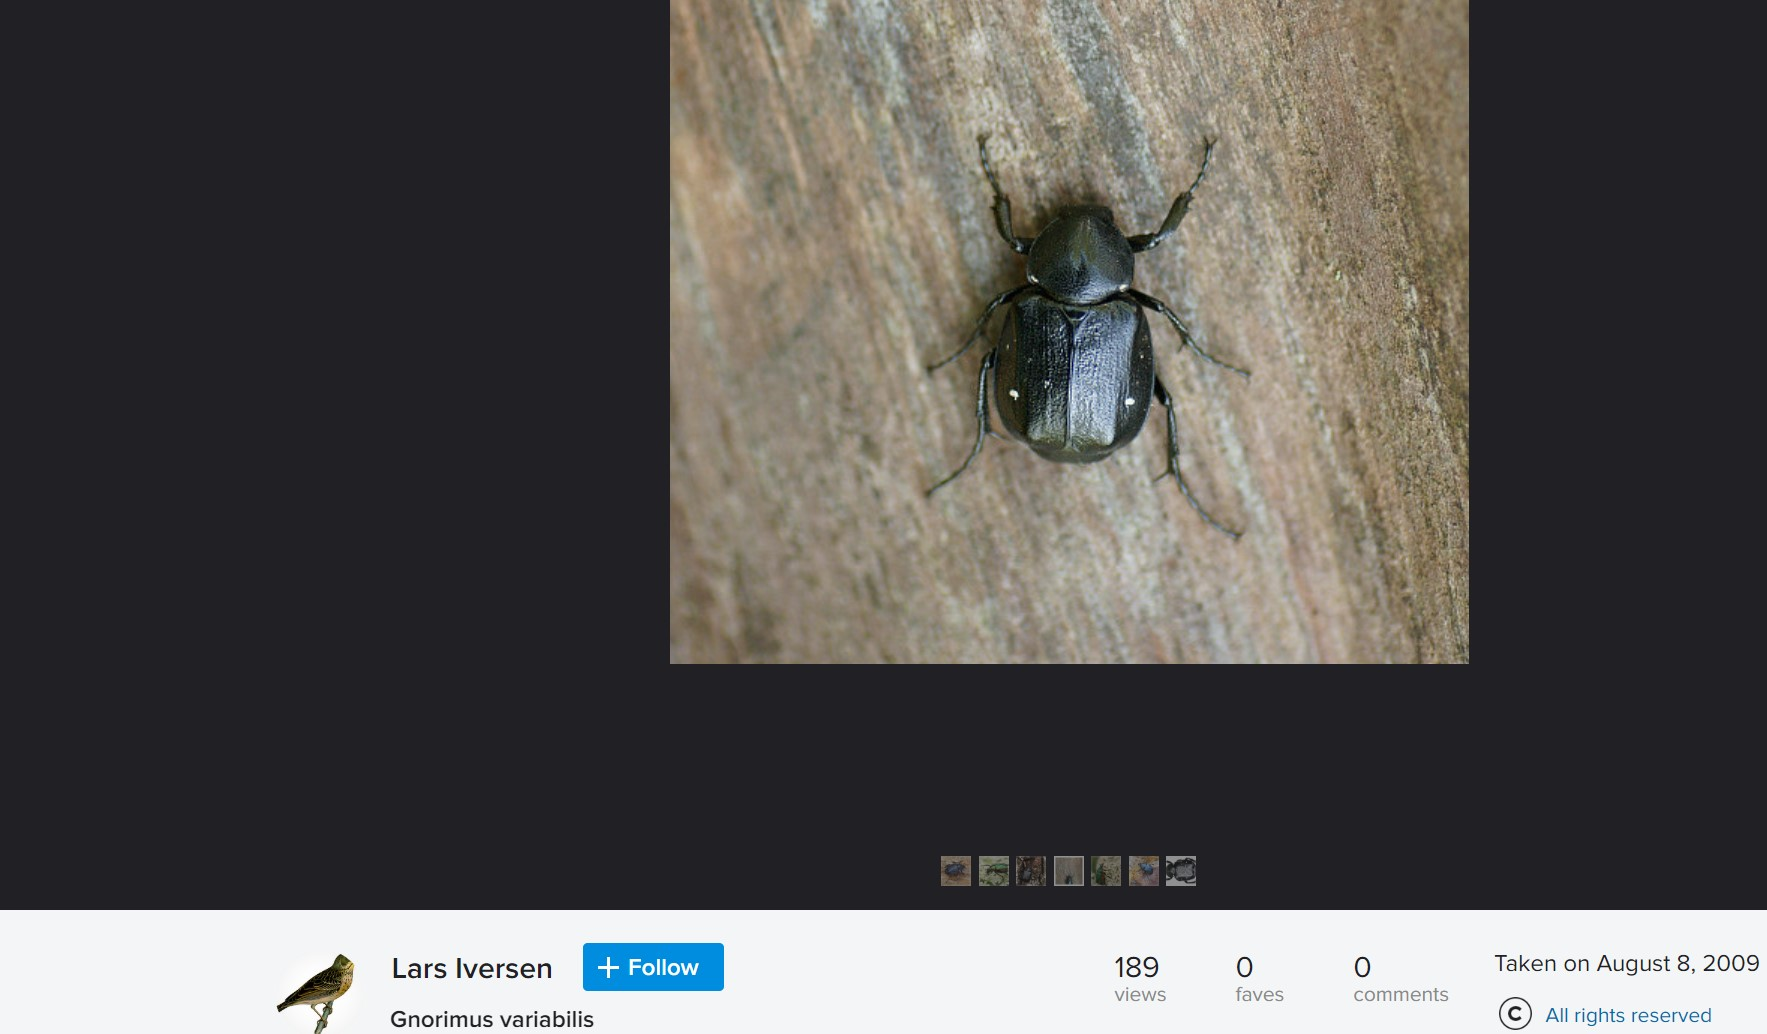Gnorimus_variabilis: (895, 121, 1287, 597)
